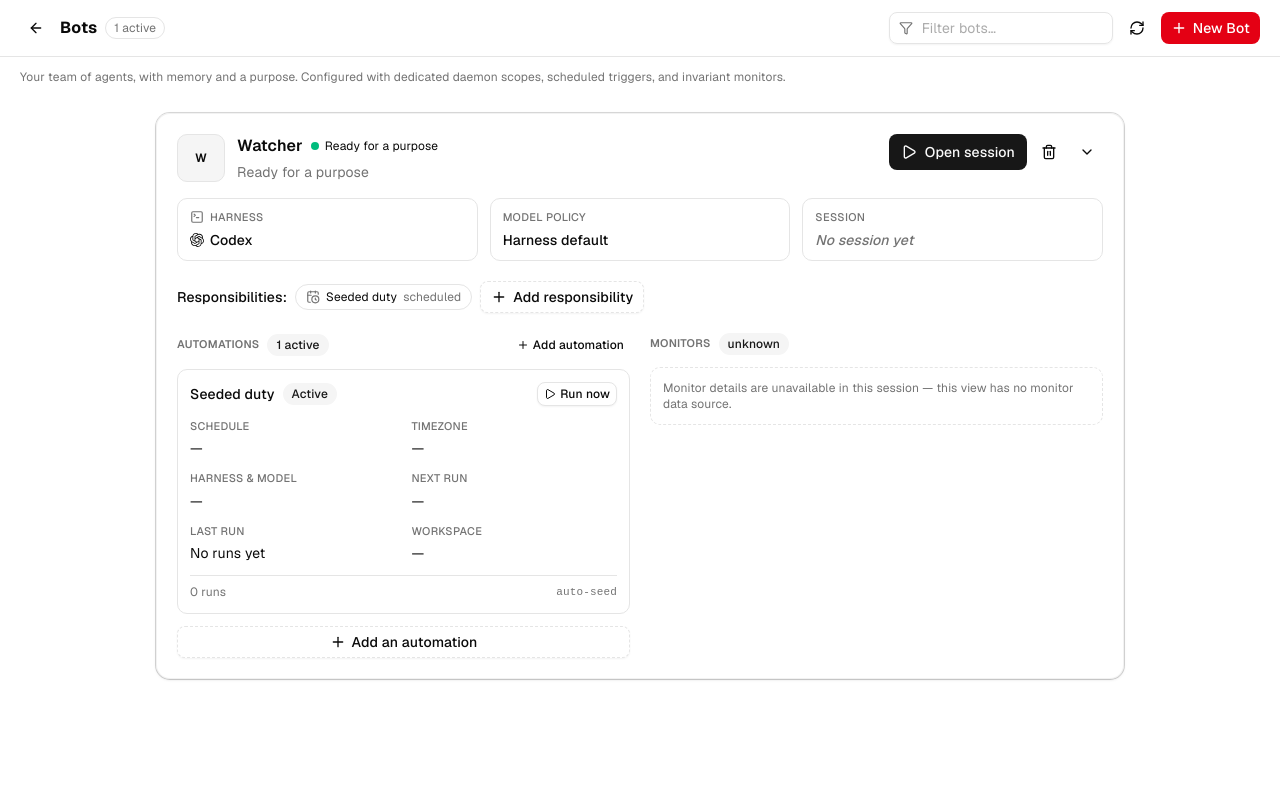
Test: use-bots-page-controller › has no Delete control while a route-reentry reload is pending, and deletes correctly once it hydrates
What coordinates should you click on to do the following:
click the button with test id "delete-bot-bot-1"
I would click on:
 (1049, 152)
Its box is 1033,136 -> 1065,168.
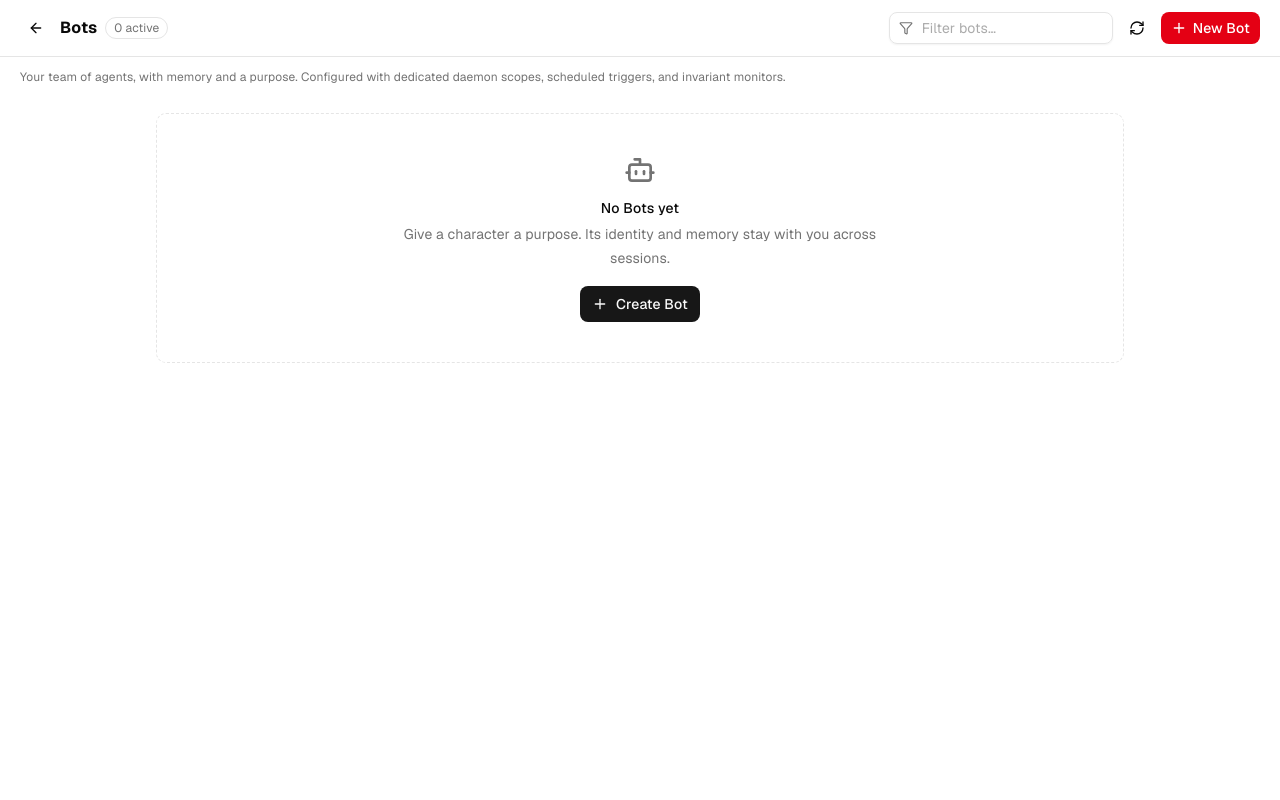
Expected: the element with test id "bots-empty" is shown, 156,113 -> 1124,363
